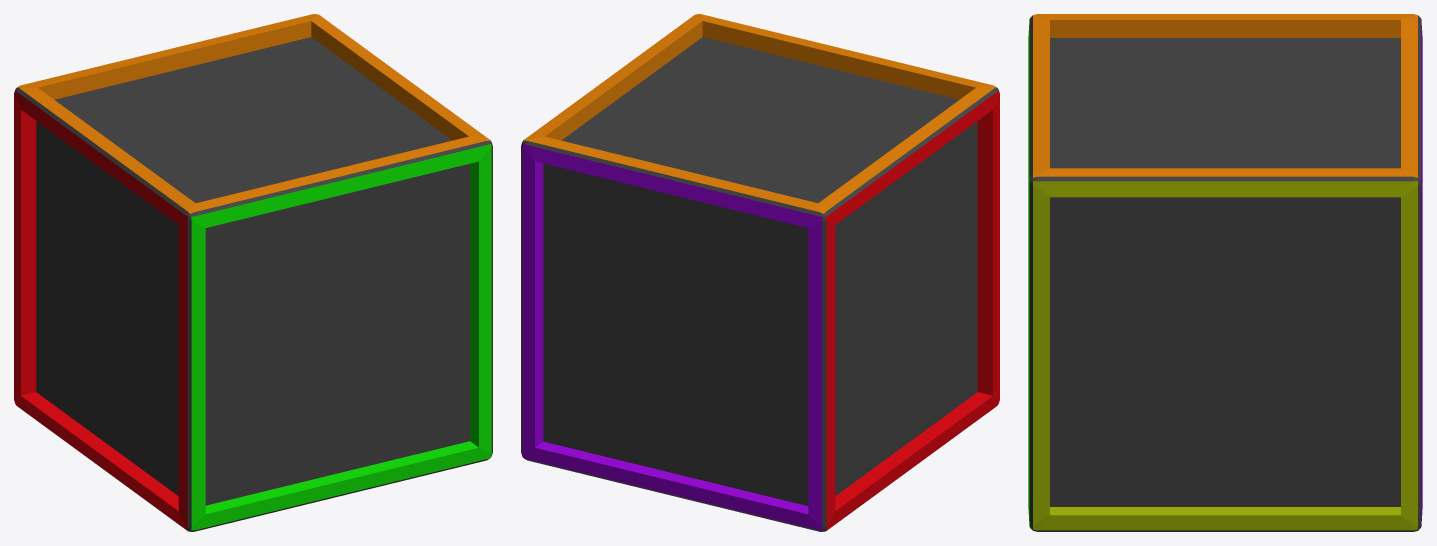
3 views of the same model, side by side, from view 1: azimuth 30°, elevation 25°; view 2: azimuth 150°, elevation 25°; view 3: azimuth 270°, elevation 25° (orthographic). The views are drawn at different scales.
Parts seen in each view (by area): view 1: Cube; view 2: Cube; view 3: Cube.
Boxes of the visible parts, x1=… form: Cube: x1=14, y1=14, x2=492, y2=531; Cube: x1=521, y1=14, x2=999, y2=531; Cube: x1=1028, y1=14, x2=1422, y2=531.
Size of the model in its own units: 2 by 2 by 2.
